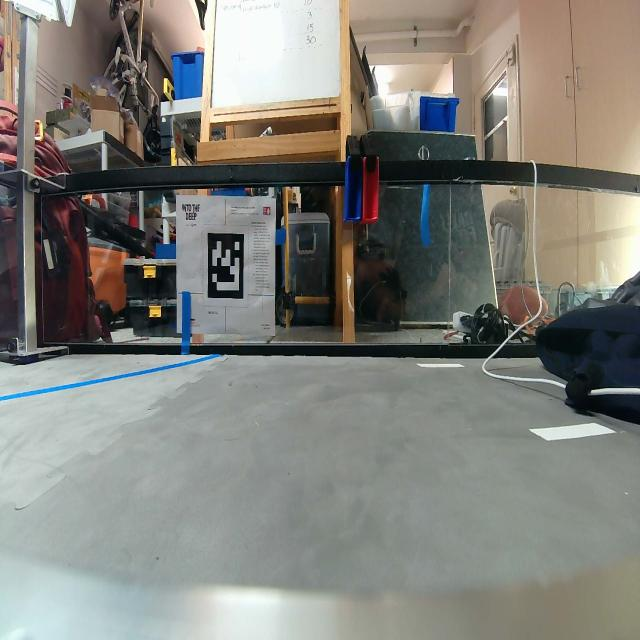specimen_block_blue: (344, 151, 363, 226)
specimen_block_red: (364, 152, 382, 226)
